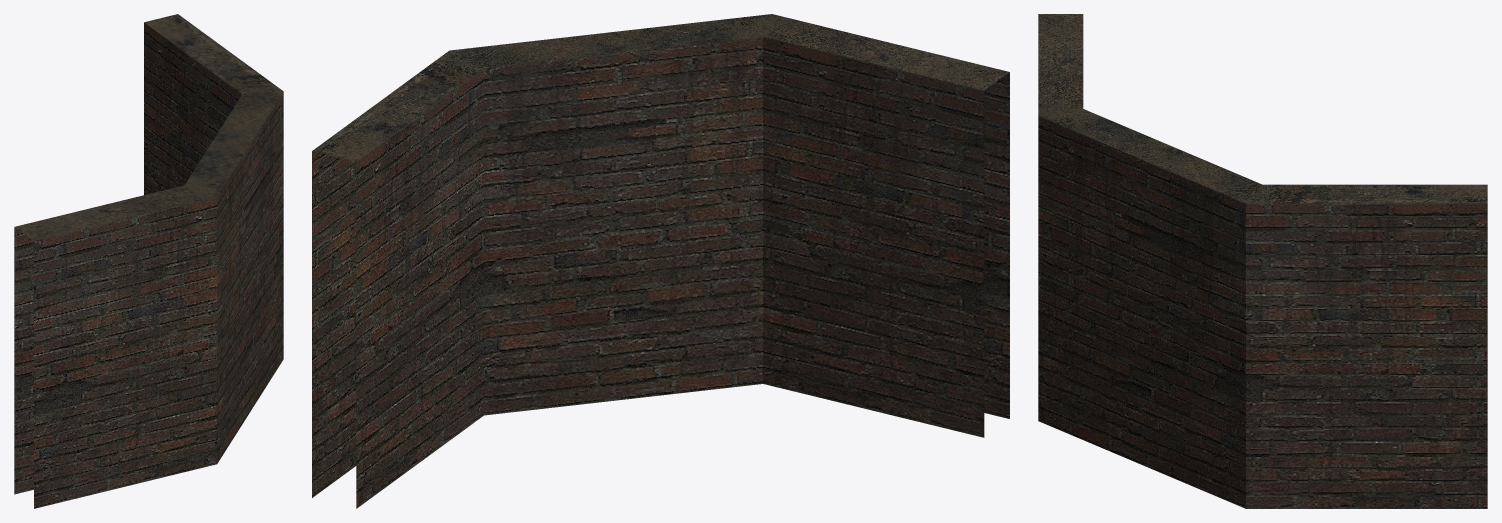
Rendered from wall_hs_1_m2a_1.glb.
The picture shows the model from 3 angles, left to right: view 1: azimuth 30°, elevation 25°; view 2: azimuth 150°, elevation 25°; view 3: azimuth 270°, elevation 25°; orthographic projection. The views are drawn at different scales.
Parts seen in each view (by area): view 1: wall_hs_1_m2a_1; view 2: wall_hs_1_m2a_1; view 3: wall_hs_1_m2a_1.
Part boxes in pixels (left/top/right/bottom): wall_hs_1_m2a_1: left=14, top=14, right=283, bottom=508; wall_hs_1_m2a_1: left=312, top=14, right=1009, bottom=508; wall_hs_1_m2a_1: left=1038, top=14, right=1487, bottom=508.
Size of the model in its own units: 4 by 3 by 4.
2 materials, 2 textured.
